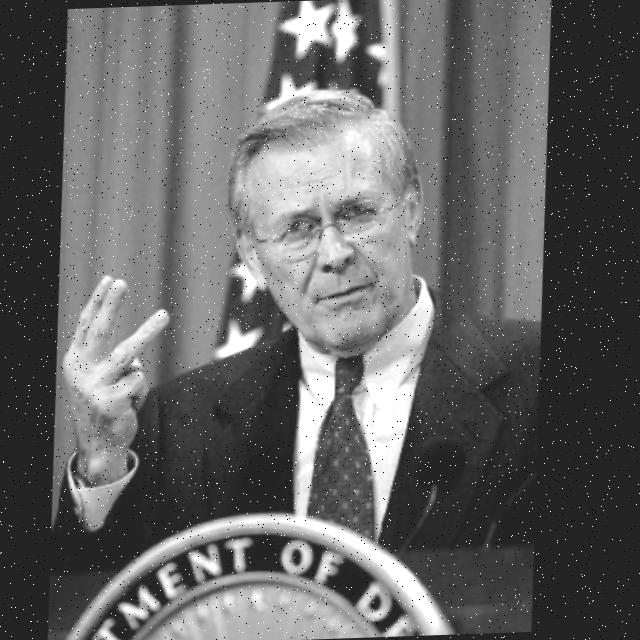face: (221, 104, 424, 356)
